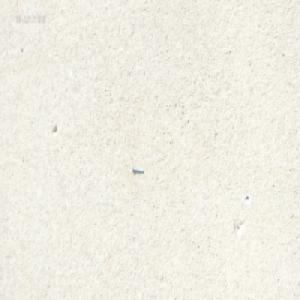Nail: (131, 166, 144, 173)
